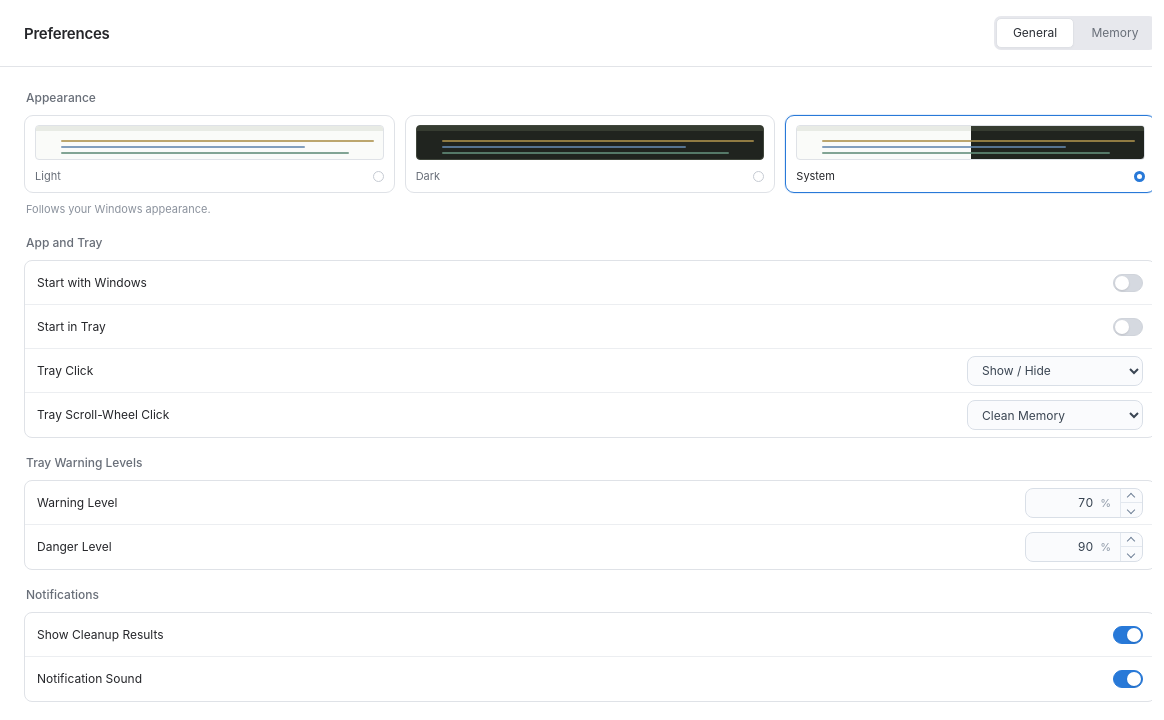
steps Warning Level in both directions without submitting
The width and height of the screenshot is (1164, 720).
Click the button named "Increase warning level" at [1132, 496], box [1121,488,1142,502]
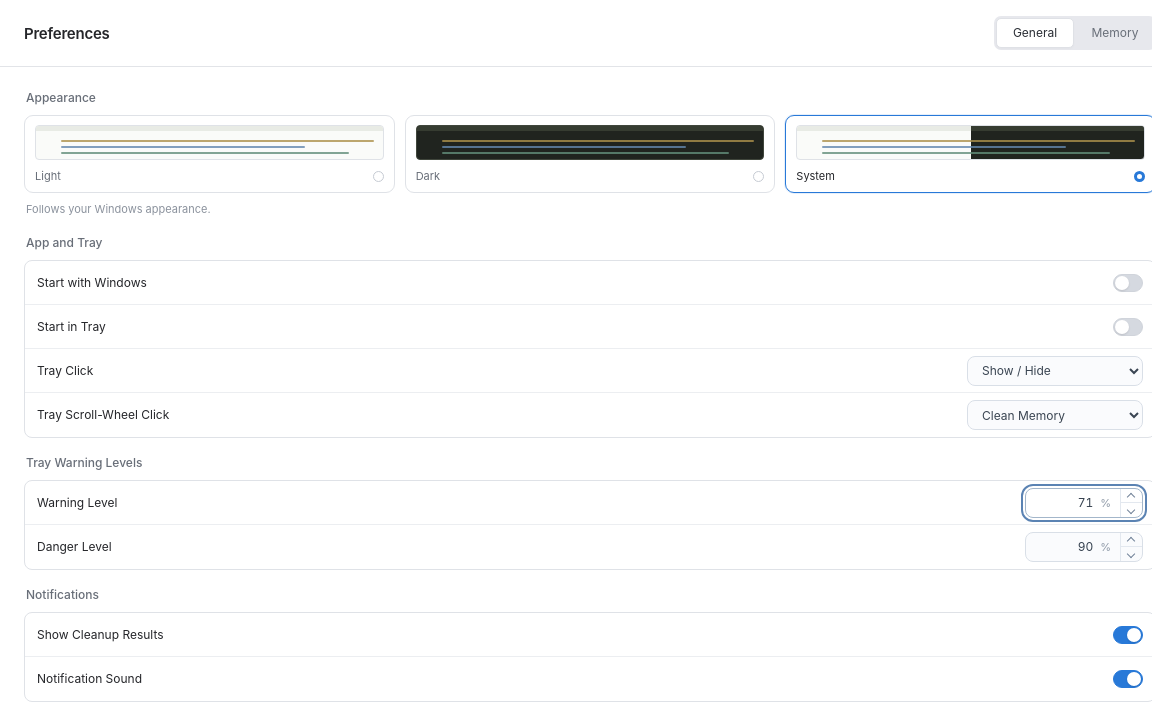
Now the number field labelled "Warning Level" holds "71", box [1026,488,1096,516]
Click the button named "Decrease warning level" at [1132, 510], box [1121,502,1142,516]
(page scrolled)
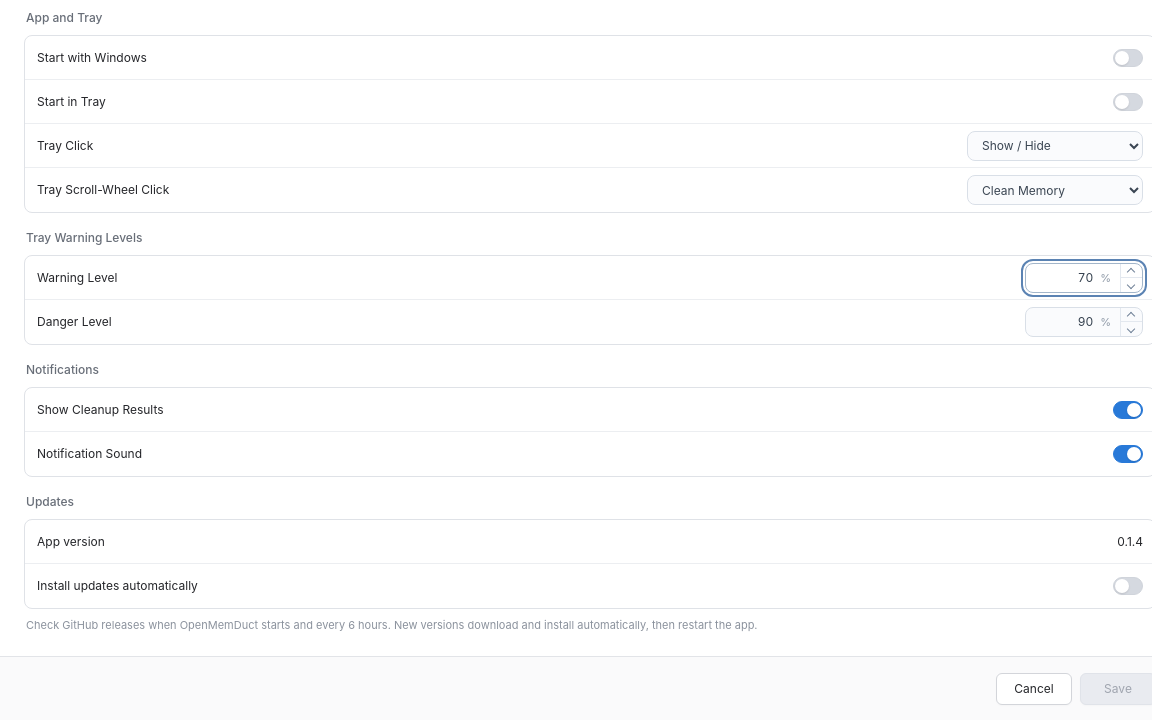
Now the number field labelled "Warning Level" holds "70", box [1026,264,1096,292]
